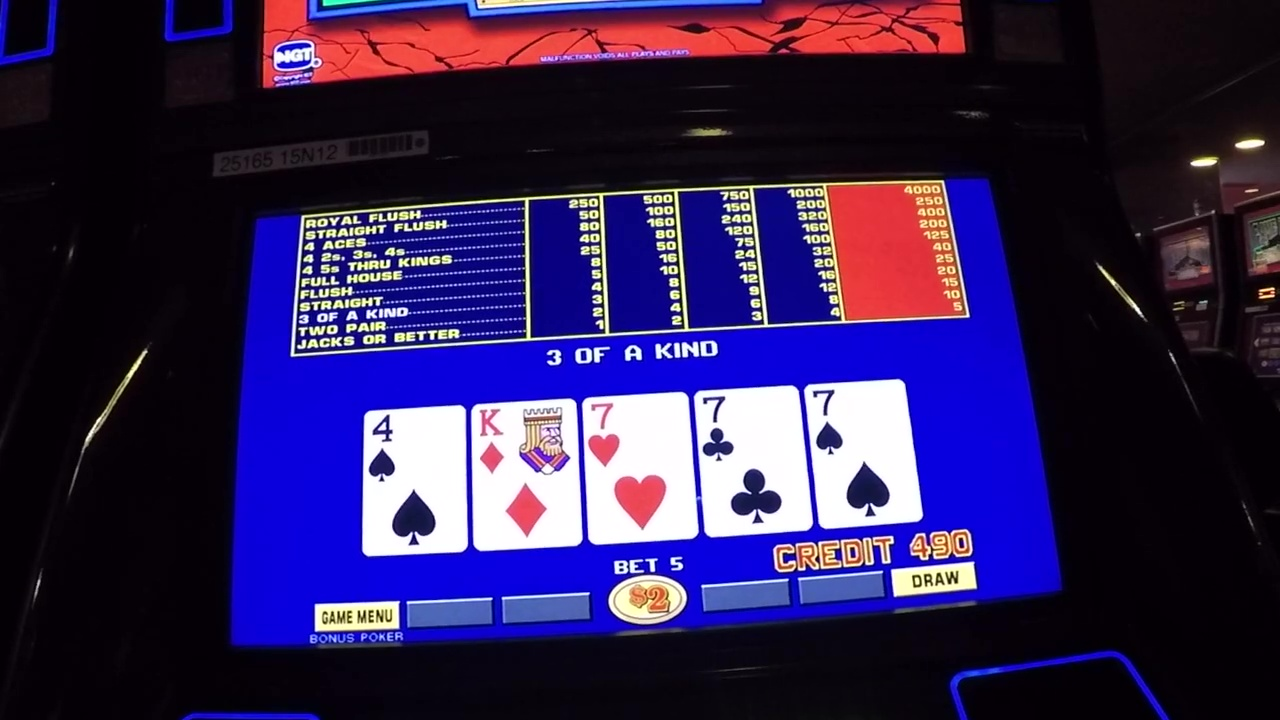C7: (700, 390, 799, 460)
DK: (474, 405, 575, 481)
H7: (585, 401, 688, 468)
S4: (368, 413, 464, 480)
S7: (811, 384, 906, 457)
